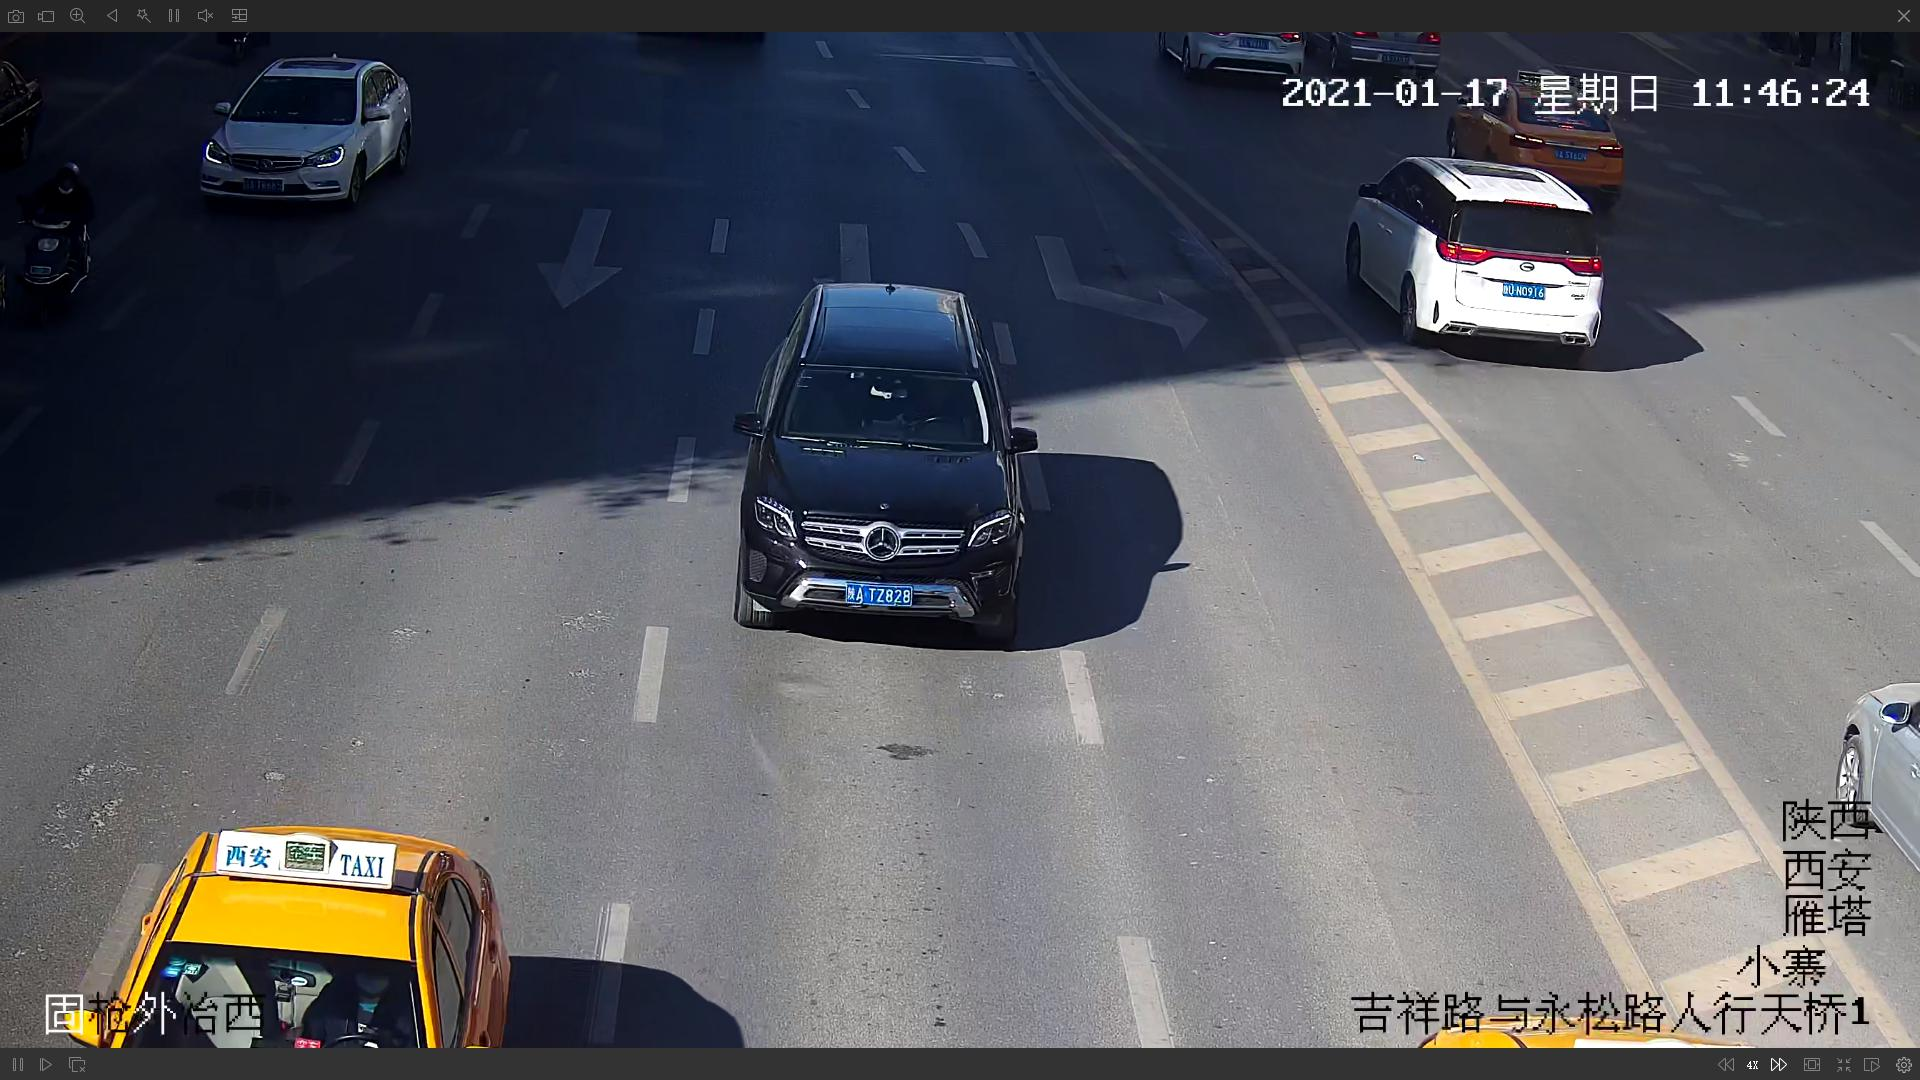black: (732, 272, 1030, 640)
white: (196, 61, 411, 214)
